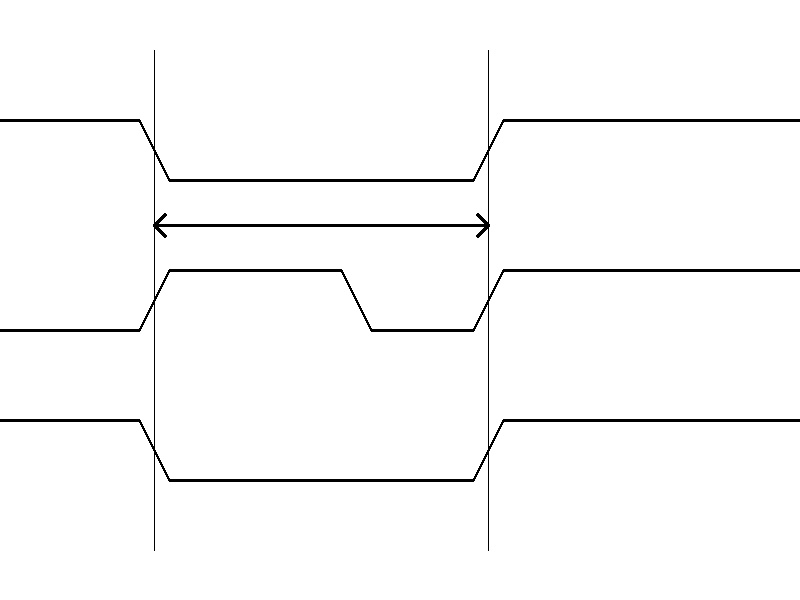double_arrow: (154, 210, 488, 240)
